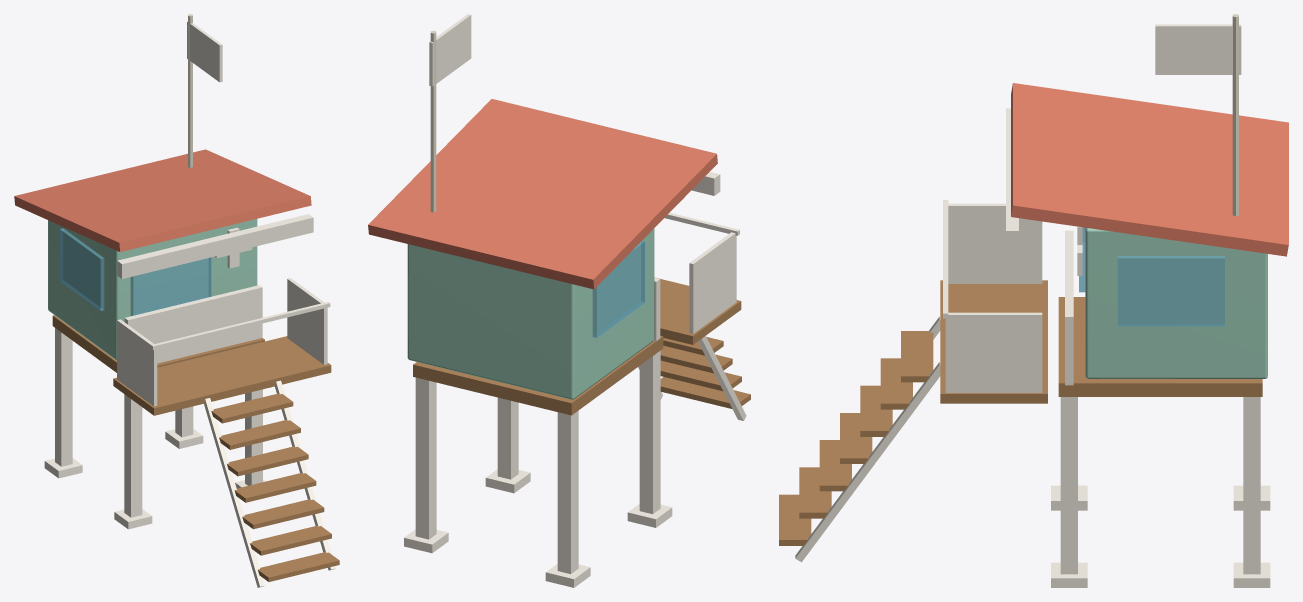
Rendered from lifeguard_tower.glb.
3 views of the same model, side by side, from view 1: azimuth 30°, elevation 25°; view 2: azimuth 150°, elevation 25°; view 3: azimuth 270°, elevation 25° (orthographic). The views are drawn at different scales.
Parts seen in each view (by area): view 1: lifeguard_tower; view 2: lifeguard_tower; view 3: lifeguard_tower.
Part boxes in pixels (<box>): lifeguard_tower: <box>14,14,339,587</box>; lifeguard_tower: <box>368,14,750,587</box>; lifeguard_tower: <box>779,14,1288,587</box>.
Size of the model in its own units: 2.7 by 5.8 by 4.74.
